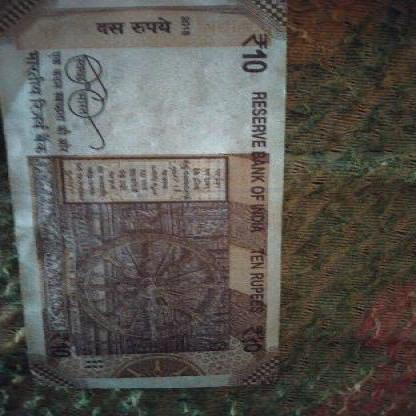New10Back: (2, 0, 274, 389)
